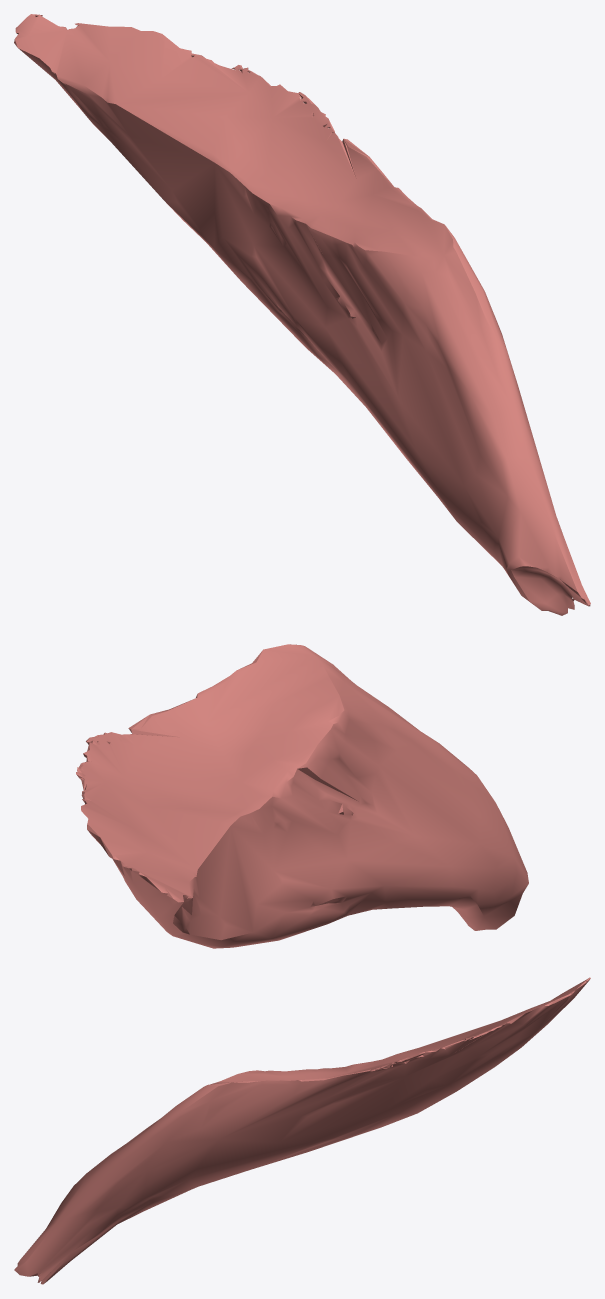
The model's file is fma32535_fj1564.glb.
3 views of the same model, one above another, from view 1: azimuth 30°, elevation 25°; view 2: azimuth 150°, elevation 25°; view 3: azimuth 270°, elevation 25° (orthographic). The views are drawn at different scales.
Visible parts, largest first — view 1: FMA32535_FJ1564; view 2: FMA32535_FJ1564; view 3: FMA32535_FJ1564.
Boxes of the visible parts, <box> form: FMA32535_FJ1564: <box>14,14,590,615</box>; FMA32535_FJ1564: <box>76,644,528,948</box>; FMA32535_FJ1564: <box>14,977,590,1284</box>.
Bounding box in the file's own units: 0.0137 × 0.0246 × 0.0503.
